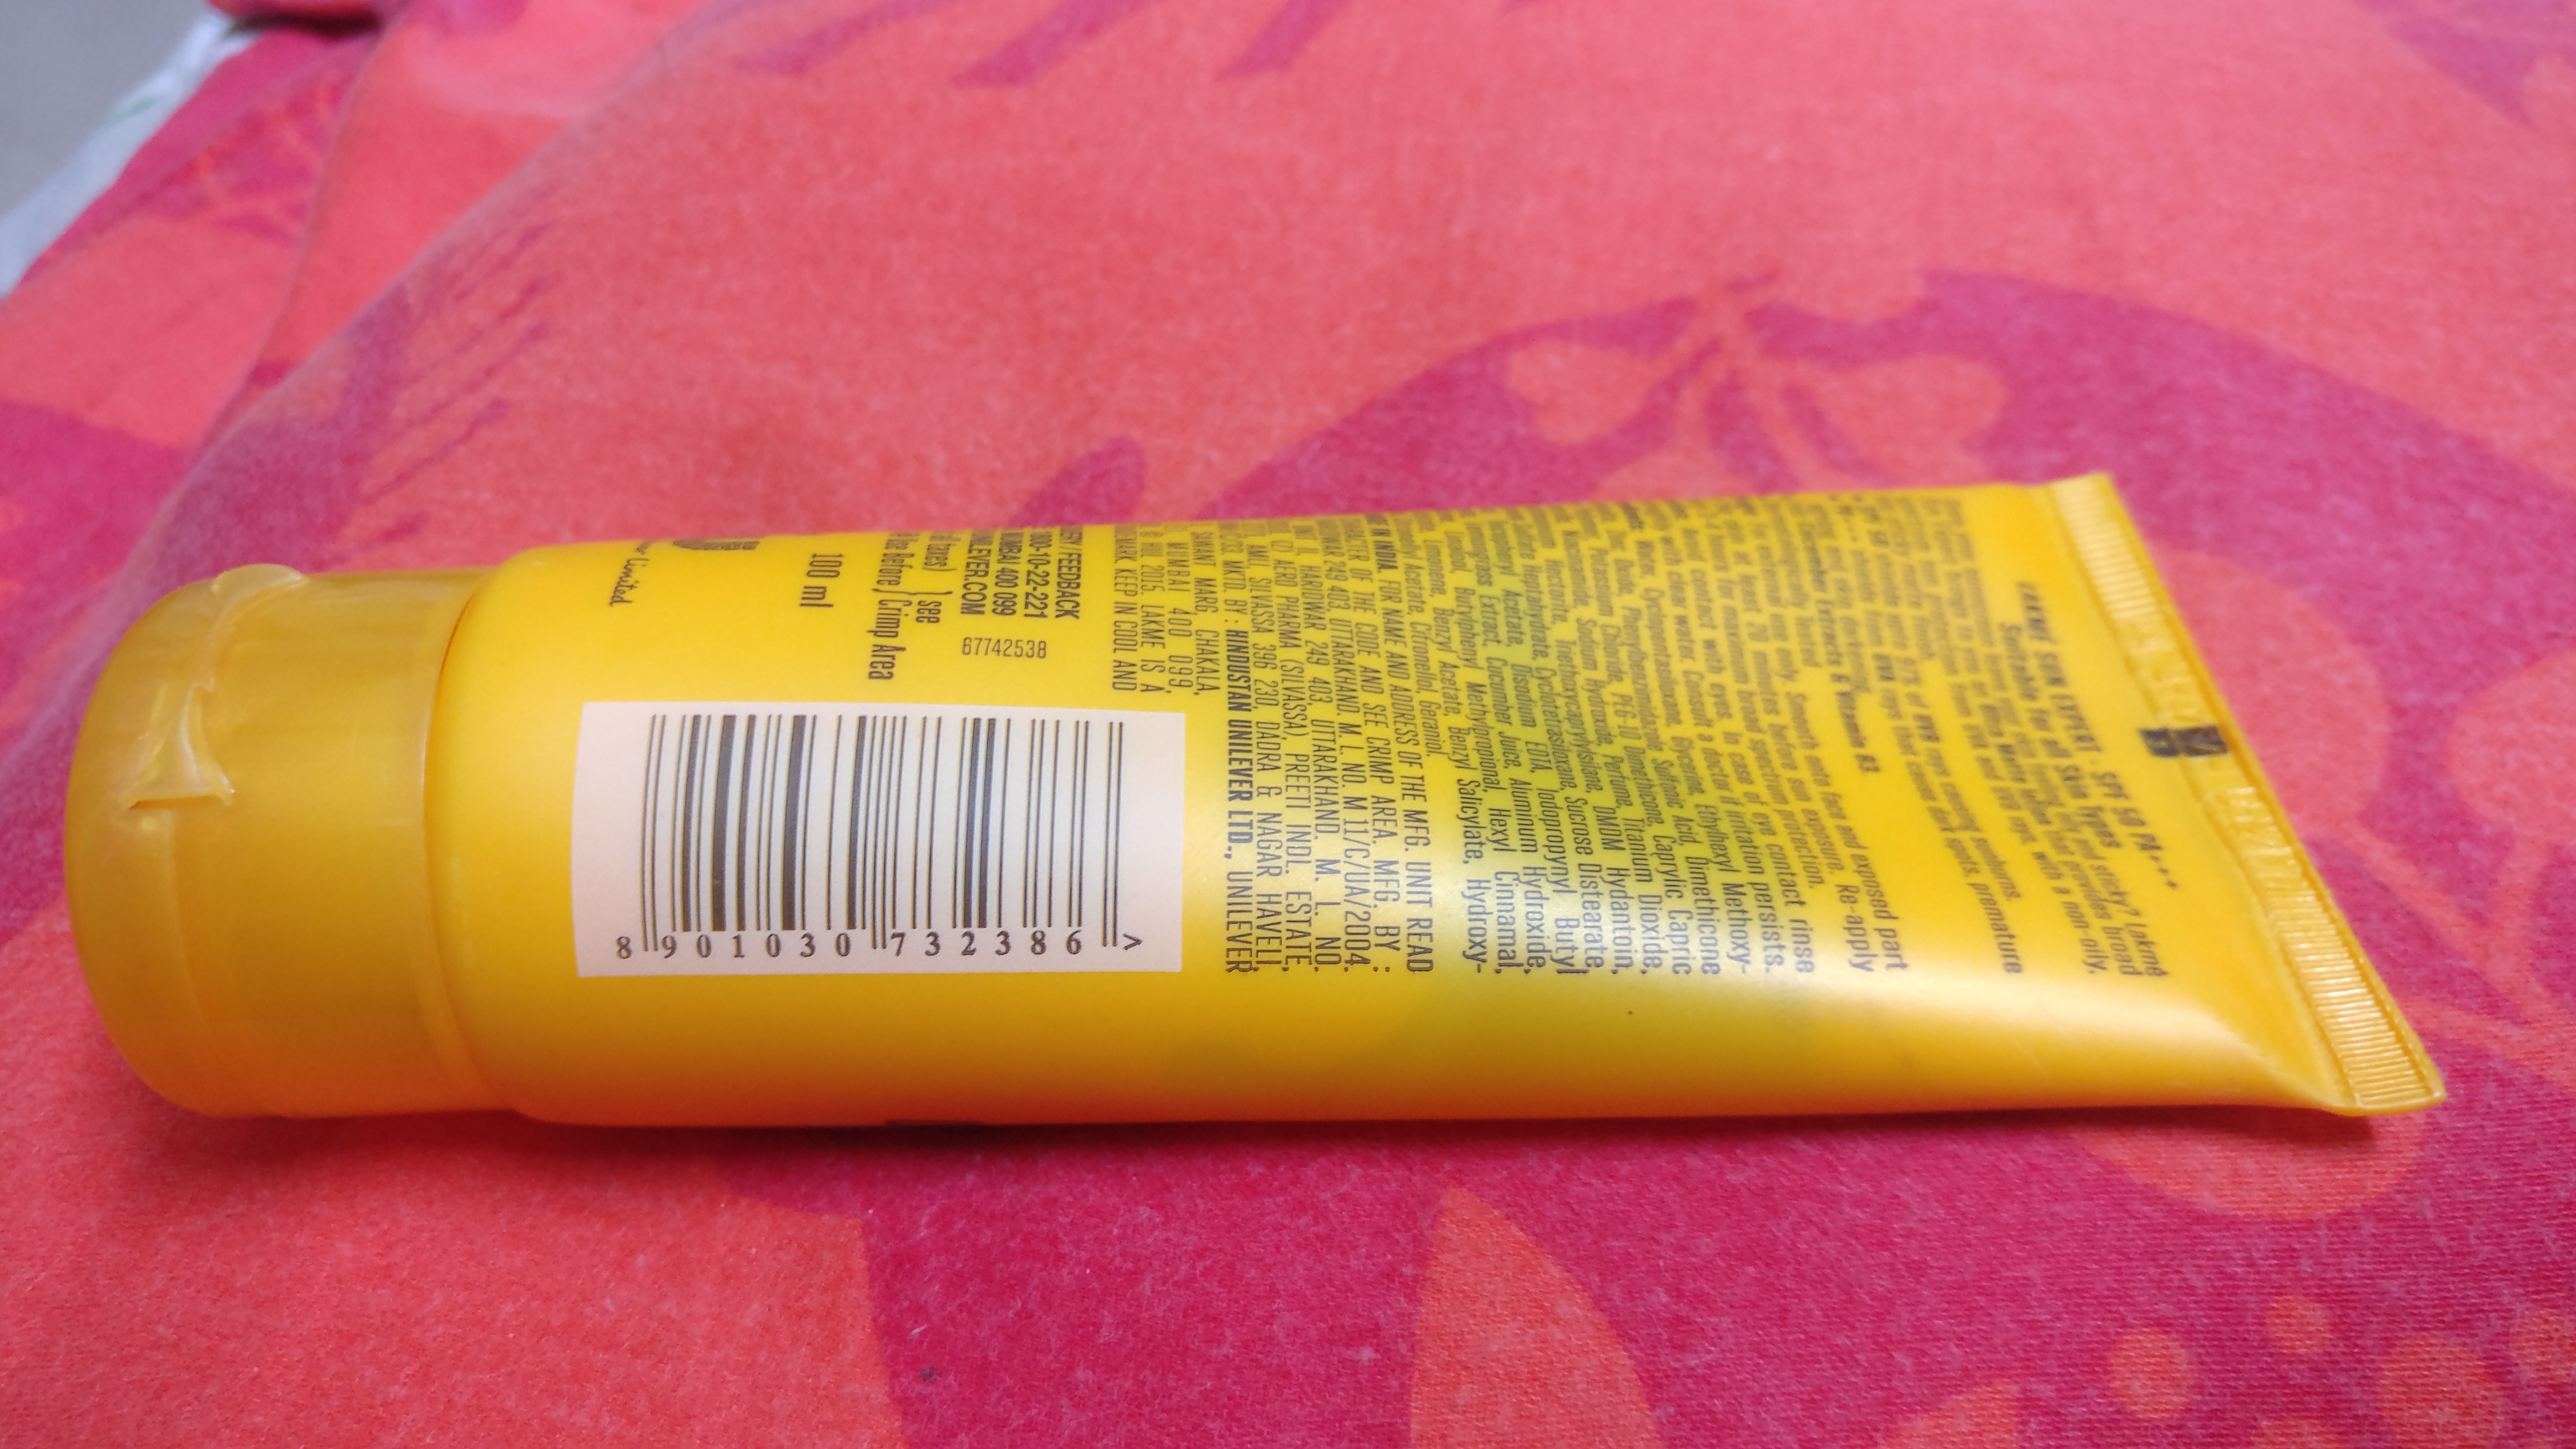barcode: (607, 715, 1150, 973)
